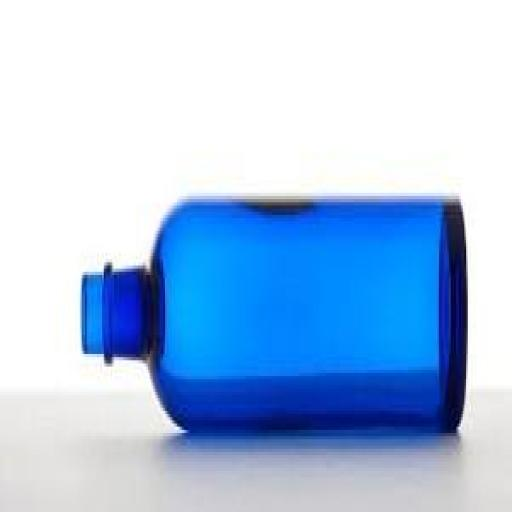bottle: (45, 103, 487, 469)
